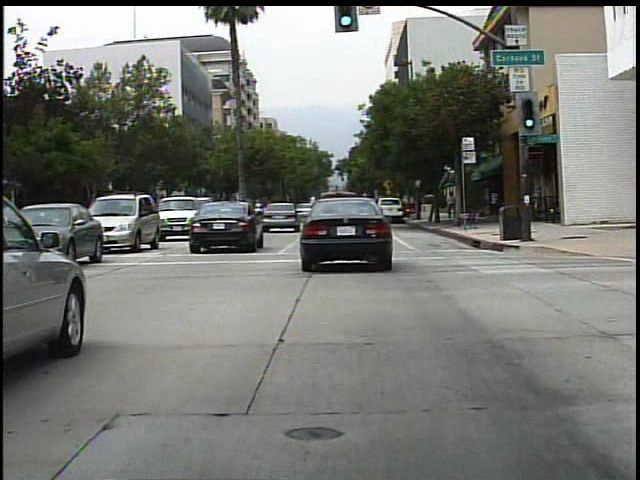person: (443, 189, 462, 223)
